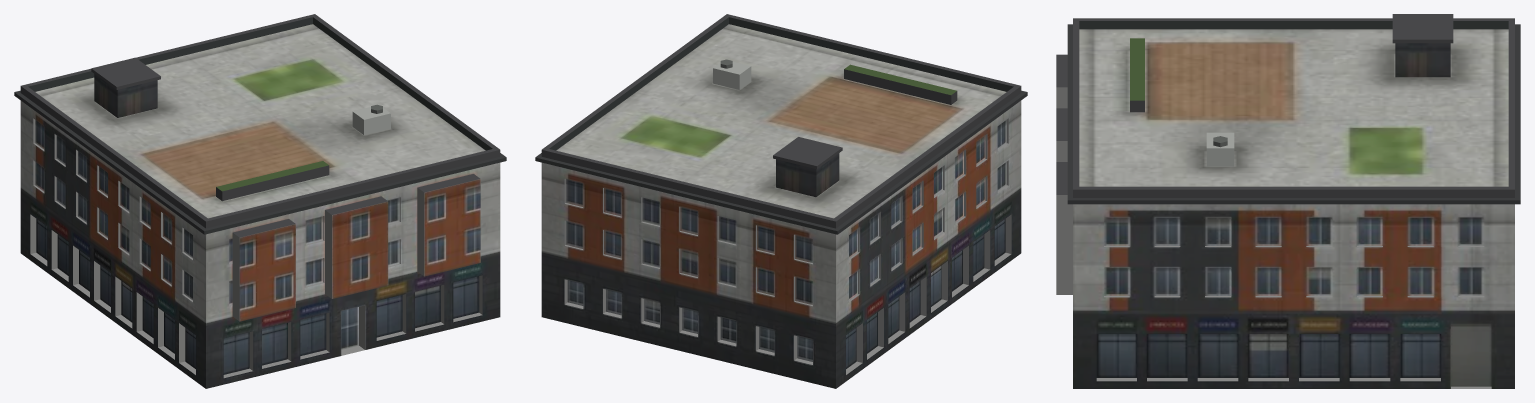
Rendered from seattle_low_f.glb.
The picture shows the model from 3 angles, left to right: view 1: azimuth 30°, elevation 25°; view 2: azimuth 150°, elevation 25°; view 3: azimuth 270°, elevation 25°; orthographic projection. The views are drawn at different scales.
Visible parts, largest first — view 1: seattle_low_f; view 2: seattle_low_f; view 3: seattle_low_f.
Part boxes in pixels (x1,y1,x2,y2): seattle_low_f: (14, 14, 506, 388); seattle_low_f: (535, 14, 1027, 388); seattle_low_f: (1056, 14, 1520, 388).
Size of the model in its own units: 22.6 by 13.77 by 25.2.
Materials: 1 (1 with a texture image).
